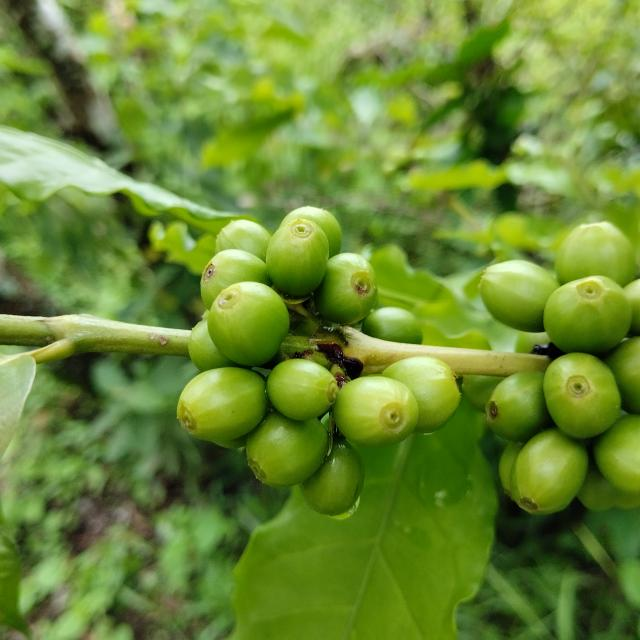green: (207, 281, 290, 367), (176, 368, 268, 444), (544, 276, 633, 354), (544, 353, 622, 439), (513, 429, 589, 514), (246, 411, 328, 488), (332, 377, 419, 448), (382, 356, 461, 434), (479, 260, 561, 332), (556, 221, 637, 286), (299, 438, 365, 517), (265, 219, 329, 297), (486, 371, 552, 443), (314, 253, 378, 325), (267, 359, 339, 421), (200, 249, 272, 310), (595, 415, 640, 493), (280, 206, 342, 257), (188, 319, 241, 372), (604, 337, 640, 415), (215, 219, 271, 261), (362, 307, 423, 344)
